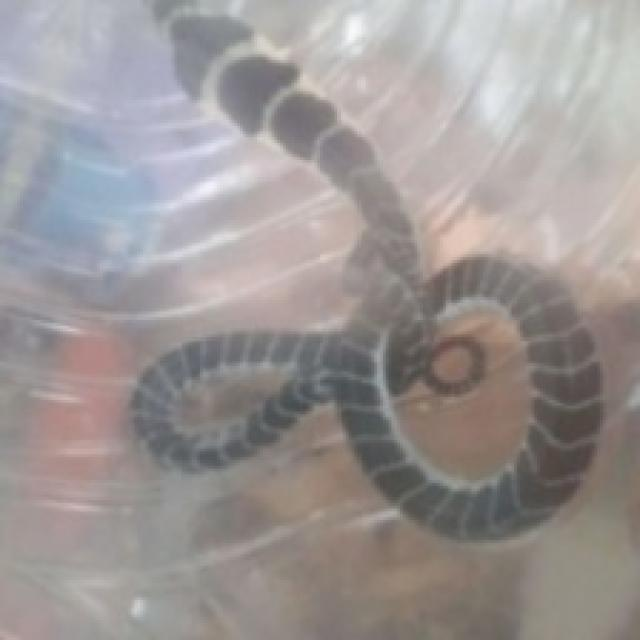king cobra: (131, 0, 600, 537), (391, 306, 529, 477)
